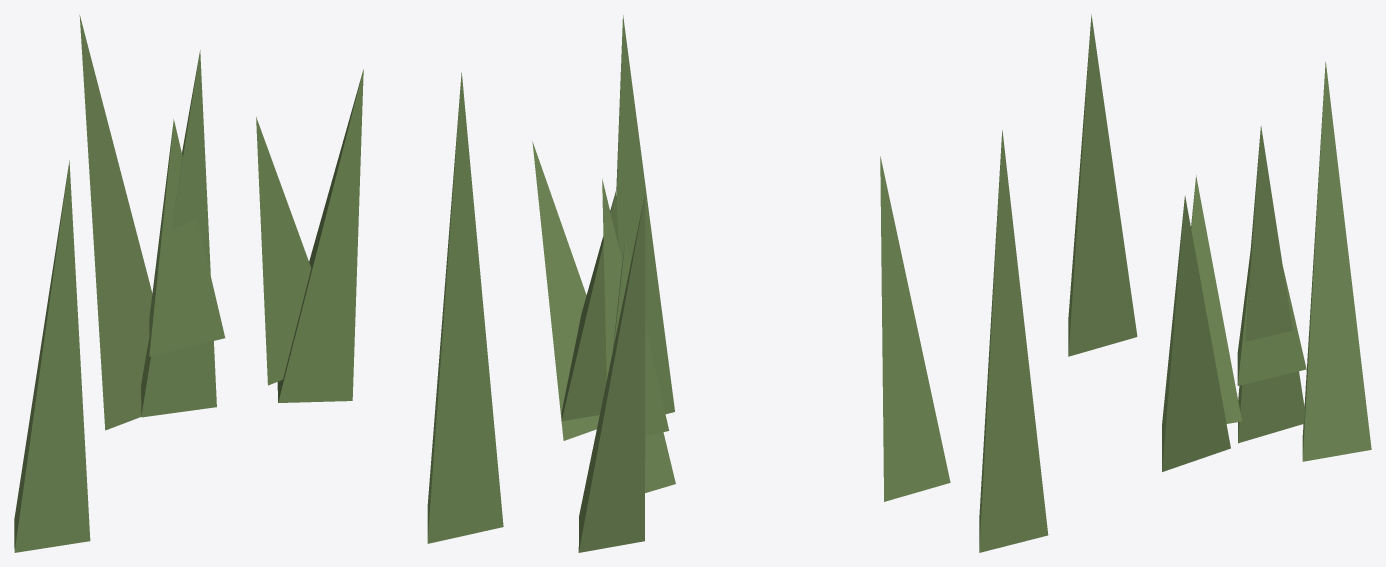
File: prop_grass.glb
The picture shows the model from 3 angles, left to right: view 1: azimuth 30°, elevation 25°; view 2: azimuth 150°, elevation 25°; view 3: azimuth 270°, elevation 25°; orthographic projection. The views are drawn at different scales.
Visible parts, largest first — view 1: Geometry; view 2: Geometry; view 3: Geometry.
Part boxes in pixels (box(x1,y1,x2,y2)): Geometry: box(14, 15, 503, 552); Geometry: box(532, 15, 950, 552); Geometry: box(979, 14, 1371, 552).
Size of the model in its own units: 0.4005 by 0.395 by 0.3412.
